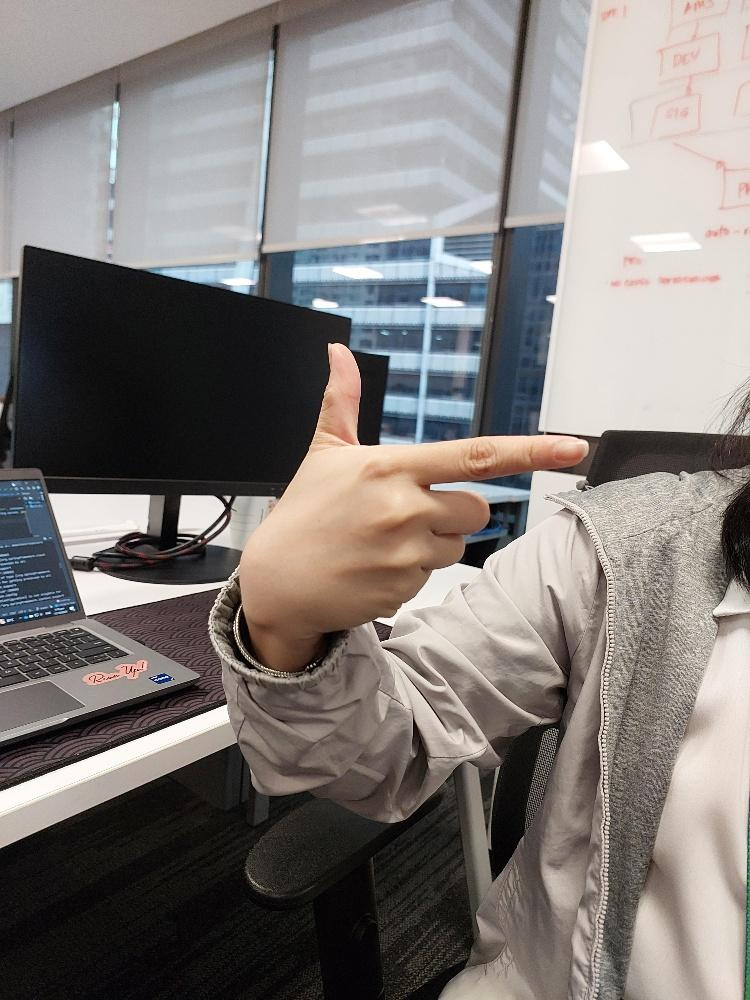g: (282, 343, 587, 631)
